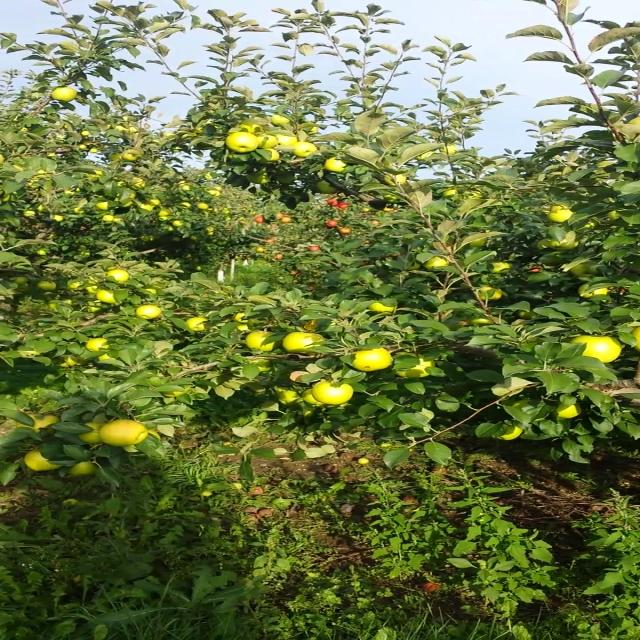apple: (565, 334, 623, 364), (100, 418, 146, 446), (392, 350, 434, 379), (347, 345, 393, 371), (22, 444, 68, 470), (242, 330, 284, 354), (313, 380, 355, 404), (14, 412, 62, 432), (282, 332, 325, 354), (123, 428, 160, 452), (223, 131, 259, 153), (75, 420, 106, 444), (545, 400, 582, 420), (64, 458, 97, 476), (568, 259, 600, 277), (492, 424, 526, 440), (576, 282, 609, 298), (275, 388, 301, 407), (183, 315, 213, 331), (52, 84, 78, 102), (469, 314, 507, 326), (133, 304, 161, 320), (83, 337, 111, 353), (322, 155, 346, 173), (94, 288, 121, 304), (290, 141, 316, 157), (423, 254, 449, 270), (310, 179, 339, 193), (366, 300, 394, 314), (254, 132, 278, 148), (382, 170, 406, 186), (262, 147, 283, 165), (487, 259, 514, 273), (476, 285, 502, 299), (235, 123, 265, 135), (549, 238, 579, 250), (275, 130, 297, 146), (300, 388, 322, 404), (103, 268, 128, 282), (46, 298, 70, 312), (84, 276, 102, 294), (545, 210, 571, 222), (627, 324, 639, 350), (268, 114, 290, 128), (160, 387, 190, 397), (64, 277, 87, 290), (120, 149, 144, 161), (246, 170, 270, 182), (56, 355, 80, 367), (230, 311, 251, 324), (414, 149, 436, 161), (275, 173, 297, 185), (33, 280, 57, 290), (92, 352, 116, 362), (438, 144, 458, 155), (34, 168, 56, 178), (230, 324, 252, 334), (24, 178, 42, 190), (304, 122, 319, 136), (15, 351, 41, 359), (86, 170, 103, 182), (130, 178, 146, 189), (536, 237, 550, 249), (106, 151, 122, 161), (440, 188, 457, 196), (142, 287, 158, 295), (356, 456, 372, 464), (550, 204, 570, 210), (95, 202, 109, 210), (140, 203, 154, 211), (157, 208, 170, 216), (23, 210, 36, 218), (100, 215, 116, 221), (203, 172, 214, 180), (171, 219, 182, 227), (147, 199, 161, 205), (196, 203, 210, 209), (52, 214, 62, 222), (78, 130, 91, 136), (121, 200, 133, 206), (180, 201, 192, 207), (205, 190, 216, 196), (182, 183, 190, 191), (88, 148, 100, 153), (79, 144, 88, 150), (159, 217, 168, 220)
